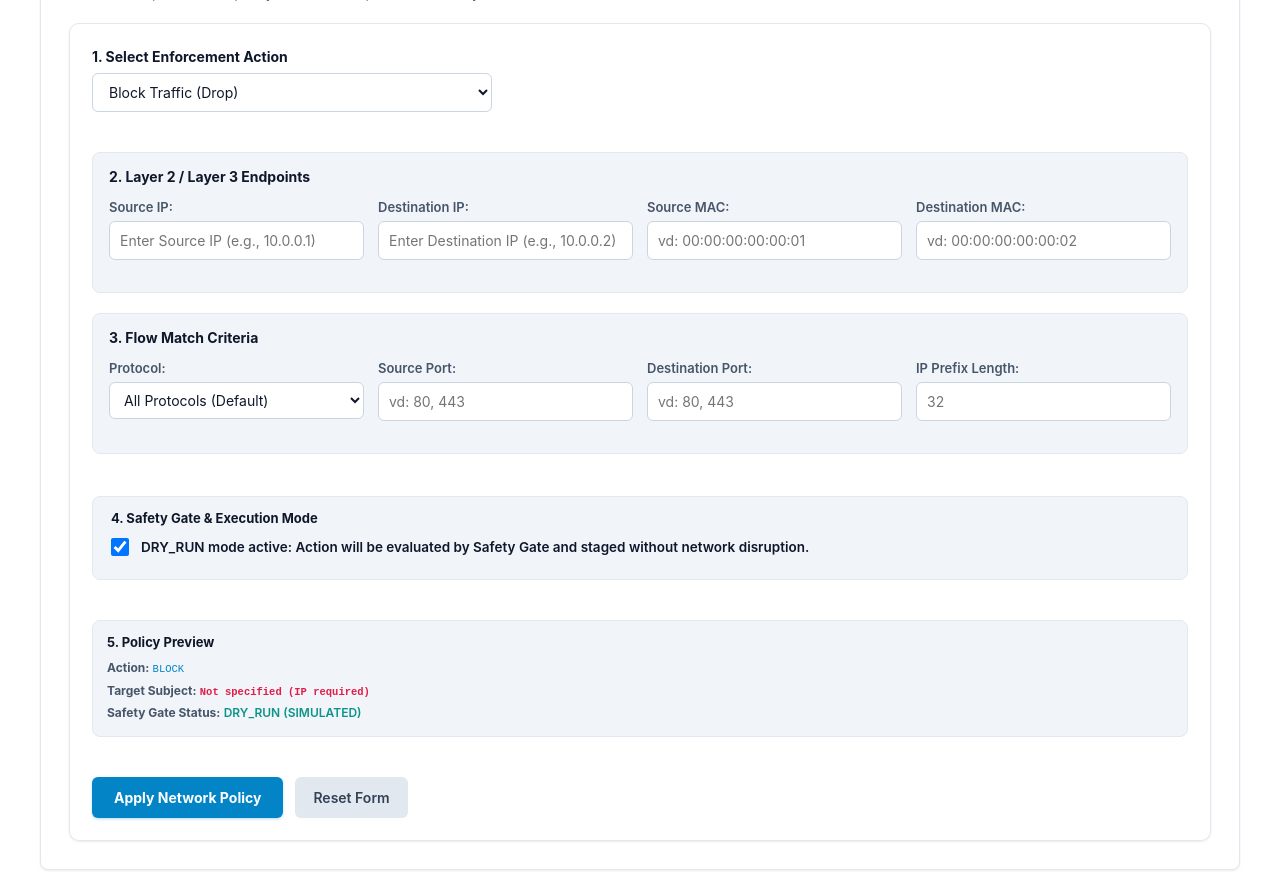
Test: ManualTrafficControl 5-Step Execution Workflow › rejects policy execution and displays clear validation error when Target Subject is not specified
This screenshot has width=1280, height=886.
(page scrolled)
Check: the text "Not specified (IP required)" is shown, box top-left (200, 686), bottom-right (370, 698)
// Click Apply Network Policy without specifying Target IP
Click the button "Apply Network Policy" at (188, 798), box top-left (92, 777), bottom-right (283, 818)
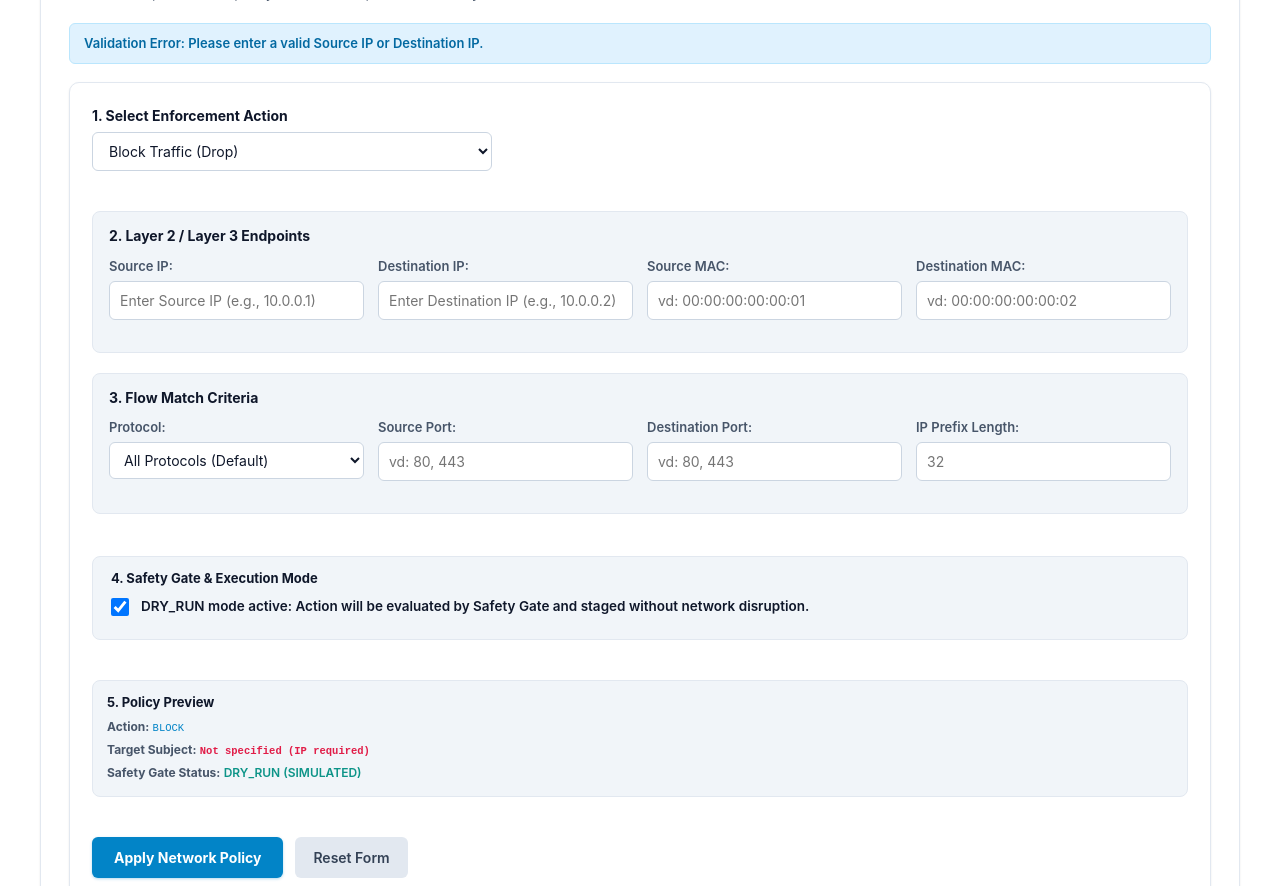
Check: the text "Validation Error: Please enter a valid Source IP or Destination IP" is shown, box top-left (84, 35), bottom-right (483, 51)
